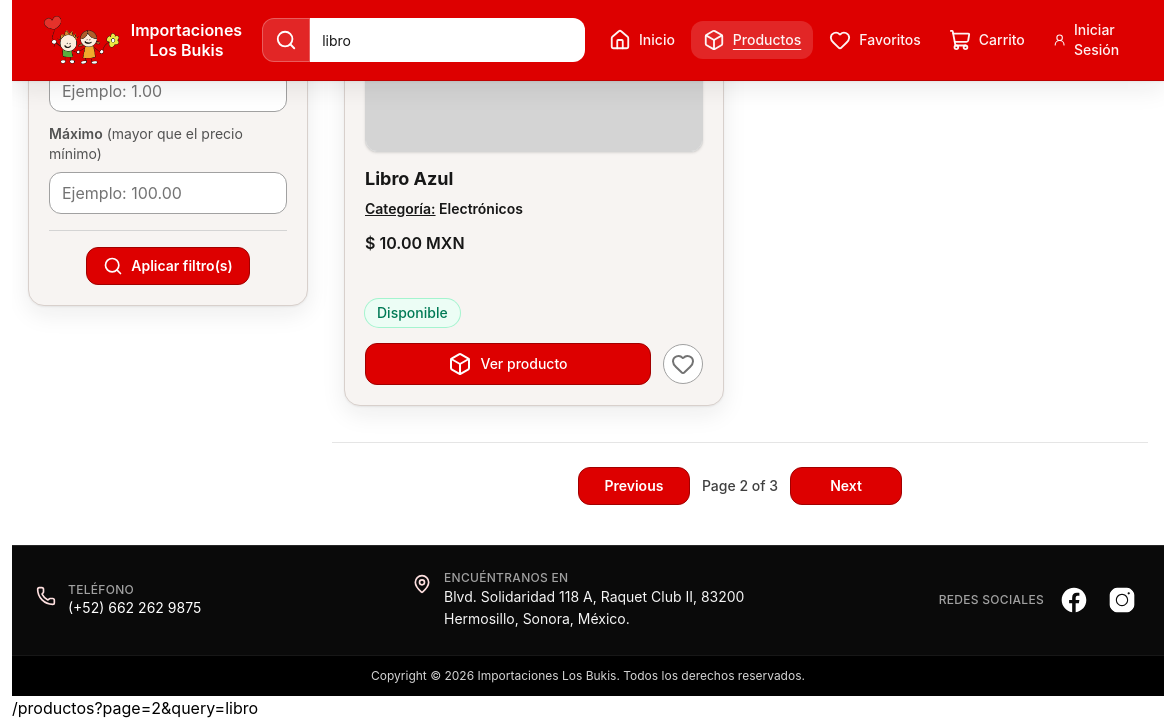
SearchProductsPage › preserves the active query when moving to the next page
(page scrolled)
Check: the text "Libro Azul" is shown, box [365, 168, 453, 189]
Step 1. Click the link with aria-label "Next page" → [846, 486], box [790, 466, 902, 504]
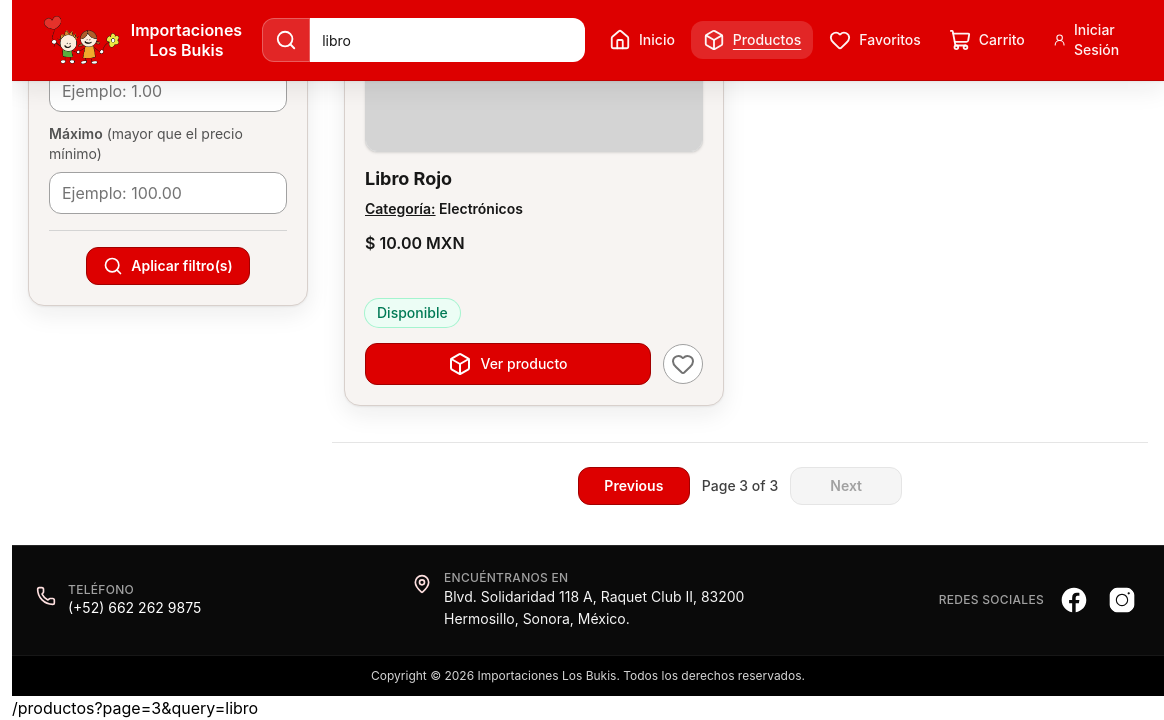
Check: the text "Libro Rojo" is shown, box [365, 168, 452, 189]
Check: the text with test id "location" reads "/productos?page=3&query=libro", box [12, 698, 258, 718]
